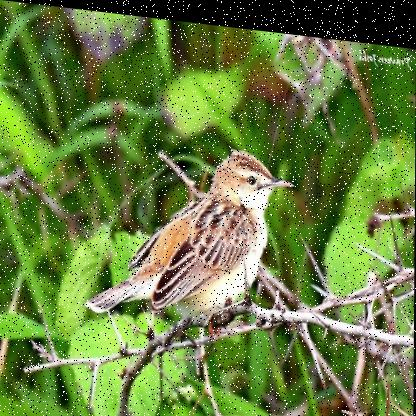Burung: (85, 129, 295, 341)
